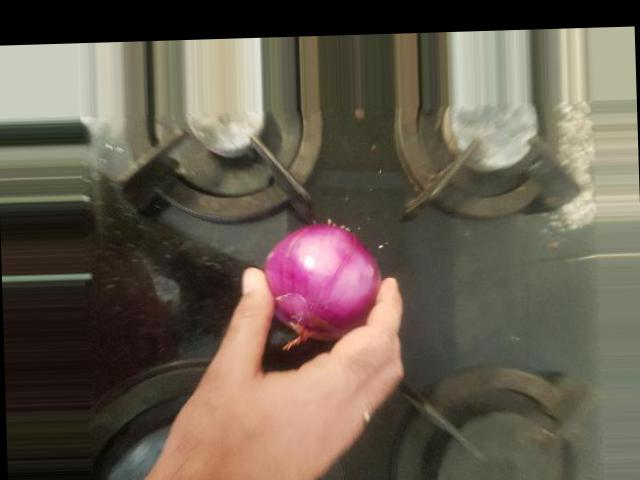onion: (364, 147, 483, 280)
